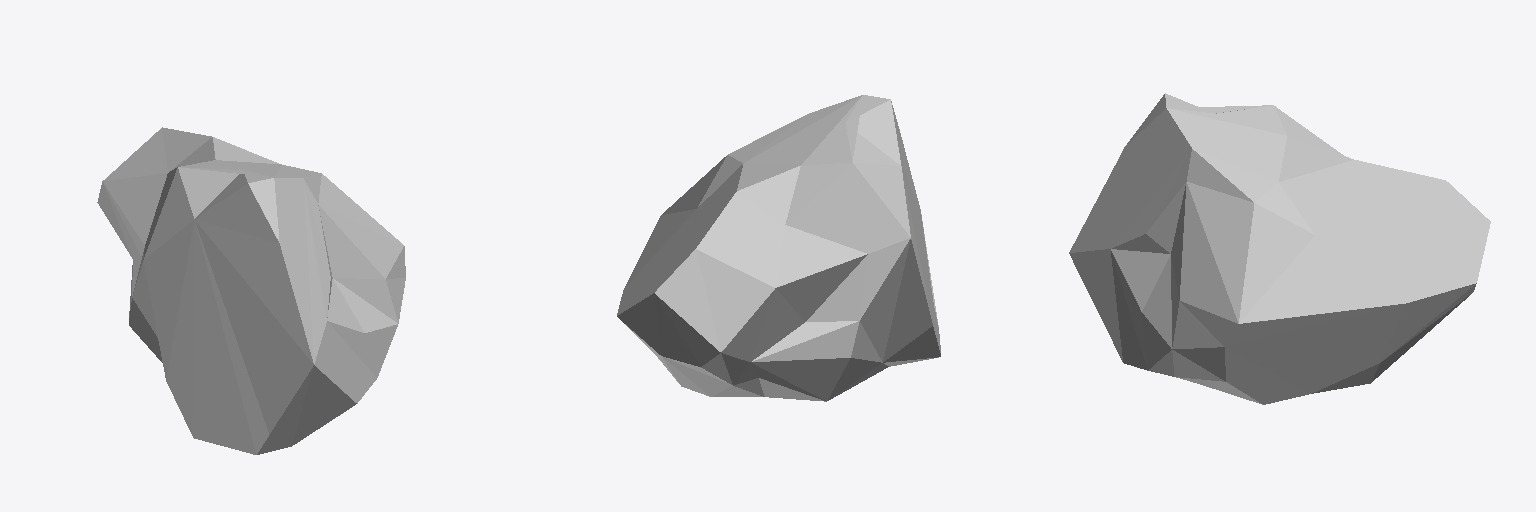
The model's file is Rock2Complex.obj.
3 renders of one model, left to right at view 1: azimuth 30°, elevation 25°; view 2: azimuth 150°, elevation 25°; view 3: azimuth 270°, elevation 25°, orthographic.
Visible parts, largest first — view 1: Rock_2_Icosphere.004; view 2: Rock_2_Icosphere.004; view 3: Rock_2_Icosphere.004.
Part boxes in pixels (x1,y1,x2,y2): Rock_2_Icosphere.004: (97,127,405,454); Rock_2_Icosphere.004: (617,95,940,401); Rock_2_Icosphere.004: (1069,93,1490,404).
Size of the model in its own units: 7.98 by 7.79 by 11.41.